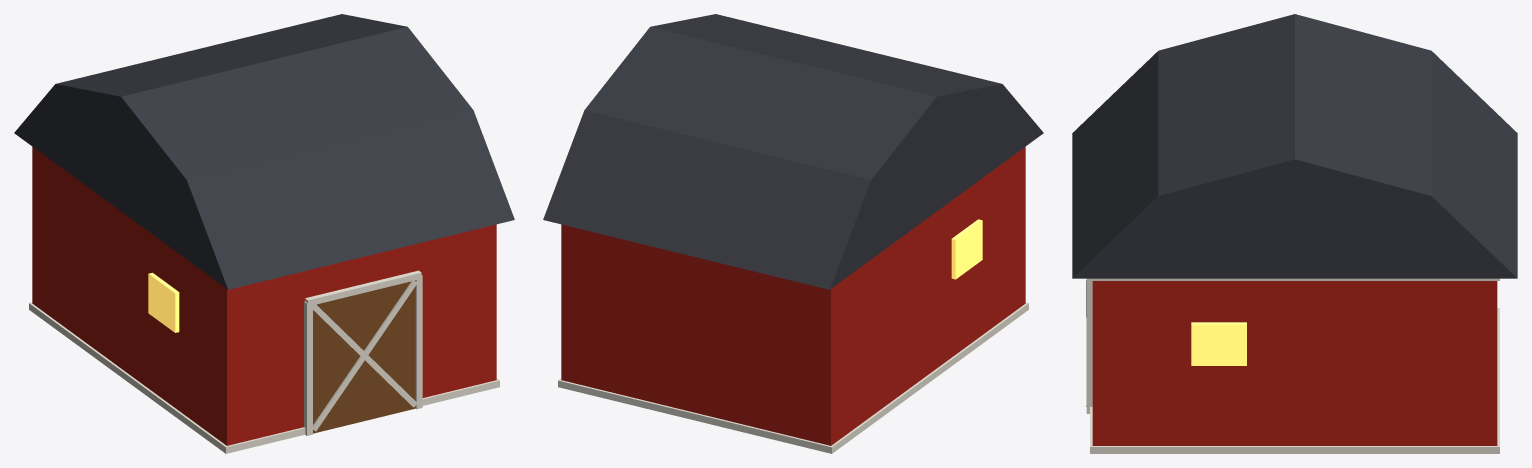
The model's file is barn.glb.
The picture shows the model from 3 angles, left to right: view 1: azimuth 30°, elevation 25°; view 2: azimuth 150°, elevation 25°; view 3: azimuth 270°, elevation 25°; orthographic projection. The views are drawn at different scales.
Visible parts, largest first — view 1: barn; view 2: barn; view 3: barn.
Boxes of the visible parts, <box> form: barn: <box>14,14,514,453</box>; barn: <box>543,14,1043,453</box>; barn: <box>1072,14,1517,453</box>.
Bounding box in the file's own units: 6.8 × 6.5 × 8.8.
